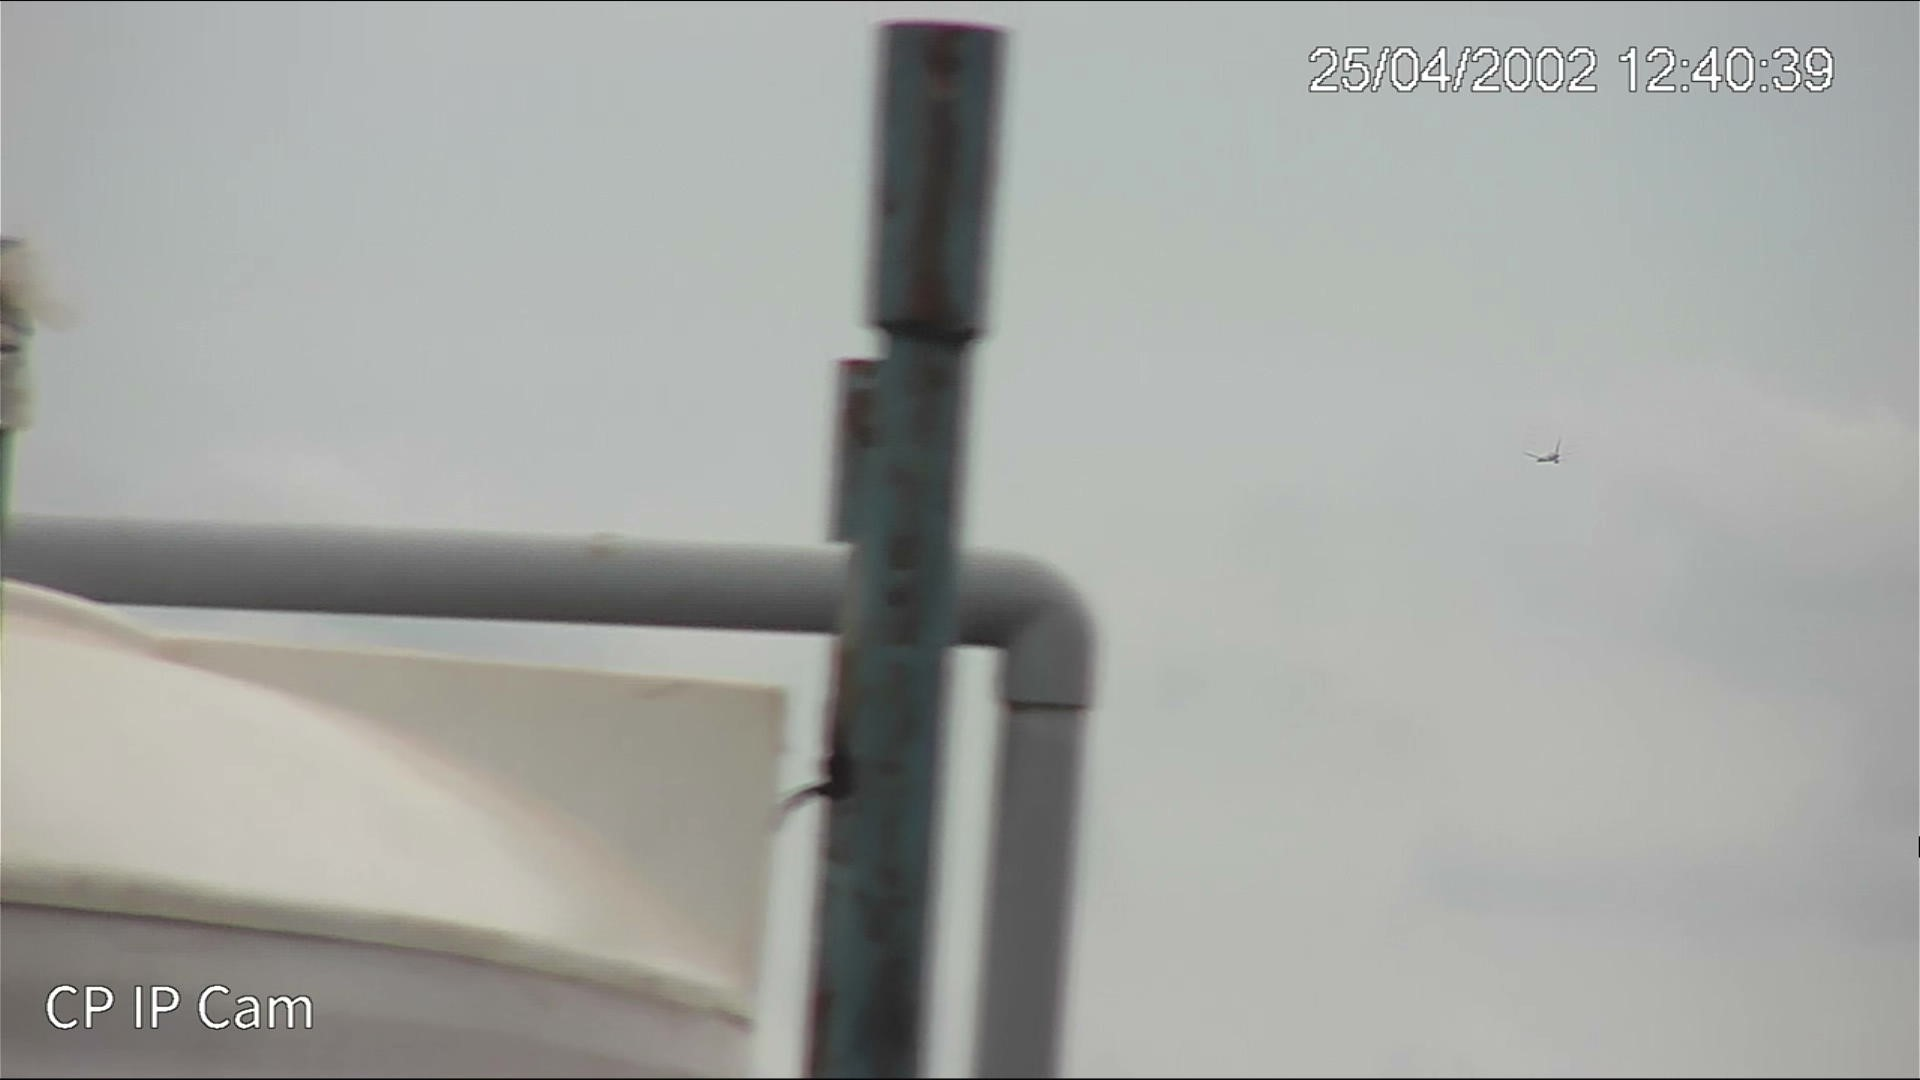SU_30: (1534, 451, 1560, 463)
